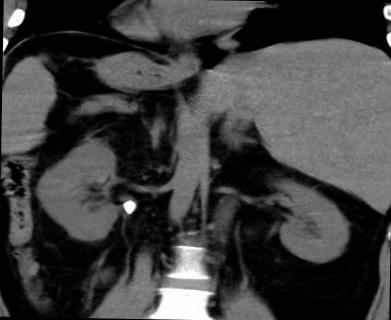Tas_Var: (121, 200, 136, 216)
